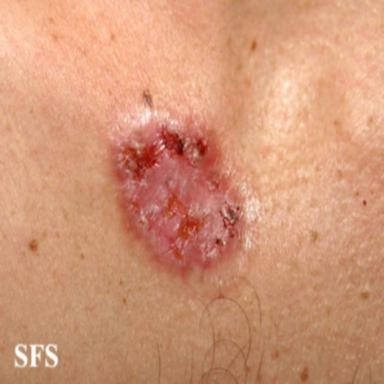basal-cell-carcinoma: (107, 104, 260, 291)
